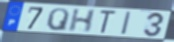3: (143, 12, 165, 38)
7: (26, 6, 45, 30)
H: (67, 8, 98, 33)
I: (120, 11, 133, 36)
Q: (45, 7, 71, 32)
T: (98, 9, 118, 35)
